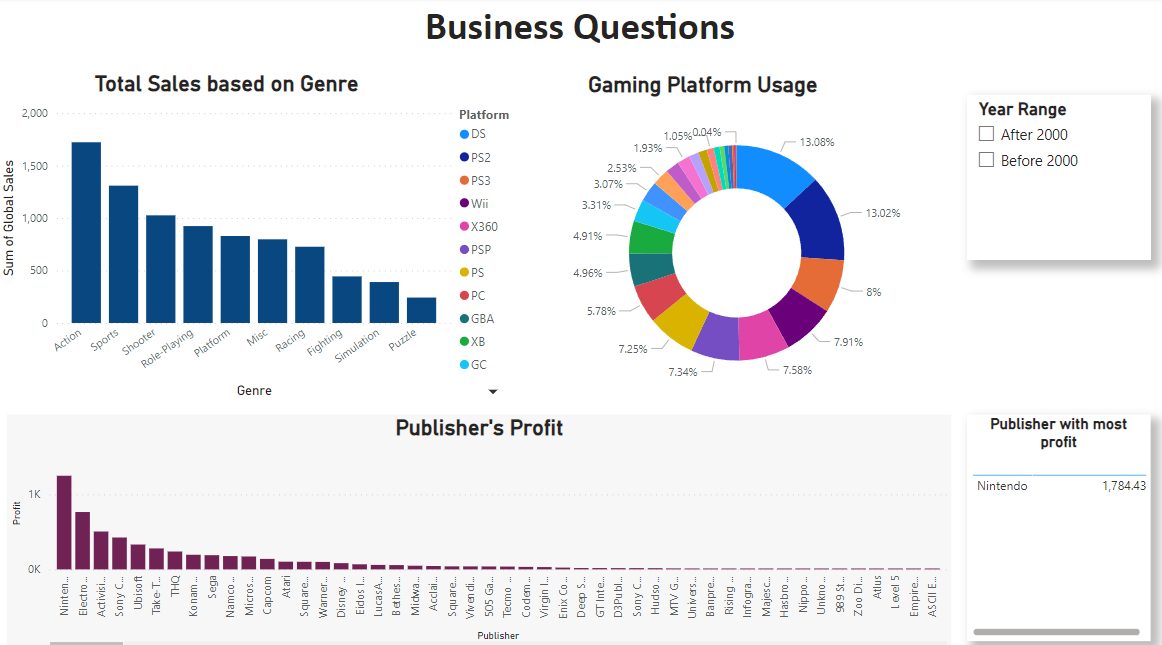

This screenshot's page, from the dashboard's own definition file:
{"tool":"powerbi","page":{"name":"Businesss Question","canvas":[1280,720],"ordinal":0},"visuals":[{"type":"columnChart","title":"Total Sales based on Genre","fields":{"Category":["vgsales.Genre"],"Y":["Sum(vgsales.Global_Sales)"]},"box":[0,81.4,504.3,364.3],"z":0},{"type":"slicer","title":"Year Range","fields":{"Values":["vgsales.Year_Range"]},"box":[1064.3,107.1,201.4,181.4],"z":1000},{"type":"donutChart","title":"Gaming Platform Usage","fields":{"Category":["vgsales.Platform"],"Y":["Sum(vgsales.Year)"]},"box":[502.9,82.9,545.7,364.3],"z":2000},{"type":"columnChart","title":"Publisher''s Profit","fields":{"Category":["vgsales.Publisher"],"Y":["vgsales.Profit"]},"box":[11.4,458.6,1037.1,261.4],"z":3000},{"type":"tableEx","title":"Publisher with most profit","fields":{"Values":["vgsales.Publisher","Sum(vgsales.Global_Sales)"]},"box":[1064.3,458.6,201.4,248.6],"z":4000},{"type":"textbox","box":[0,0,1280,64.3],"z":5000}]}

Visuals, with their boxes in screenshot pixels (x1, y1, x2, y2), scaled from the page's 1280x720 canvas onto the 1162x645 screenshot:
"Total Sales based on Genre" columnChart: detection(0, 73, 458, 399)
"Year Range" slicer: detection(966, 96, 1149, 258)
"Gaming Platform Usage" donutChart: detection(457, 74, 952, 401)
"Publisher''s Profit" columnChart: detection(10, 411, 952, 644)
"Publisher with most profit" tableEx: detection(966, 411, 1149, 634)
textbox: detection(0, 0, 1161, 58)
